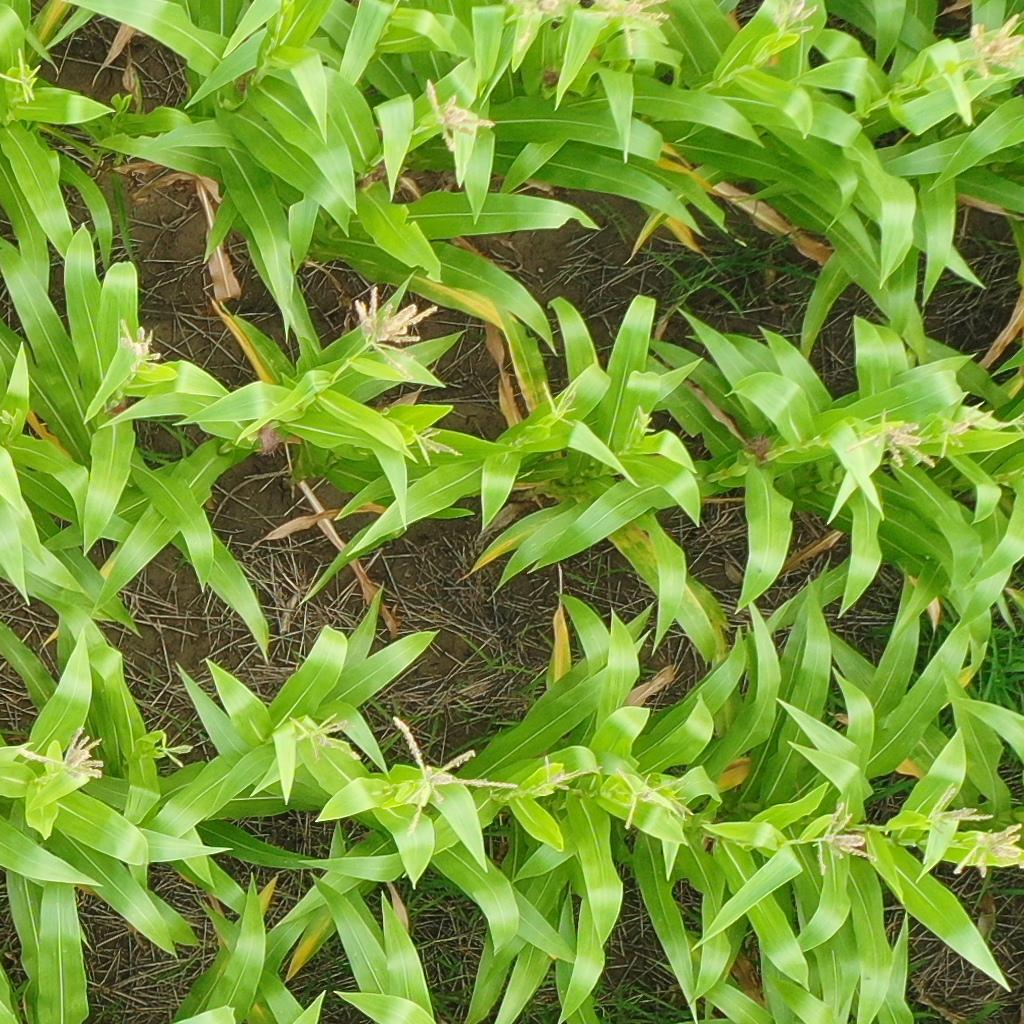Tassel: (386, 716, 522, 838), (353, 285, 439, 387), (420, 75, 495, 156), (847, 409, 940, 468), (615, 767, 695, 832), (813, 800, 880, 877), (574, 1, 672, 50), (19, 728, 107, 780), (287, 710, 363, 765), (953, 822, 1024, 879), (966, 11, 1024, 80), (923, 784, 994, 834), (505, 1, 565, 57), (938, 403, 994, 457), (1, 48, 43, 107), (117, 322, 162, 377), (768, 1, 822, 40), (544, 754, 603, 789), (413, 424, 461, 465), (542, 381, 578, 429), (158, 731, 197, 769), (635, 406, 657, 436), (1004, 411, 1024, 433), (1, 408, 17, 428)
